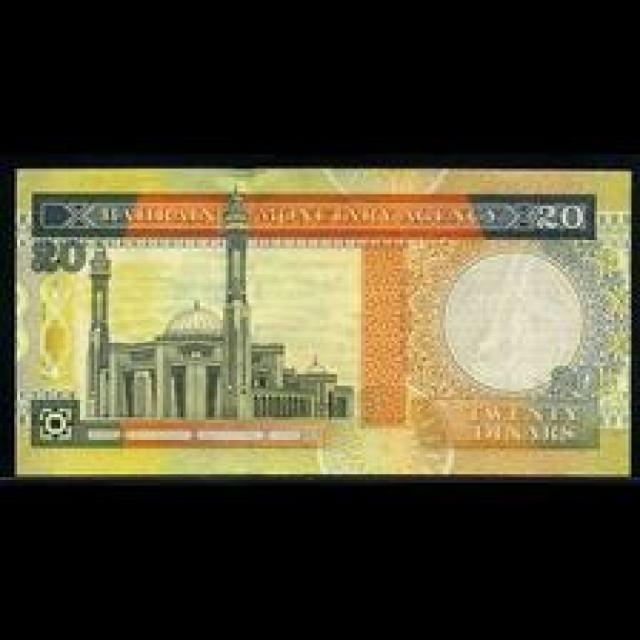banknote: (17, 169, 637, 477)
